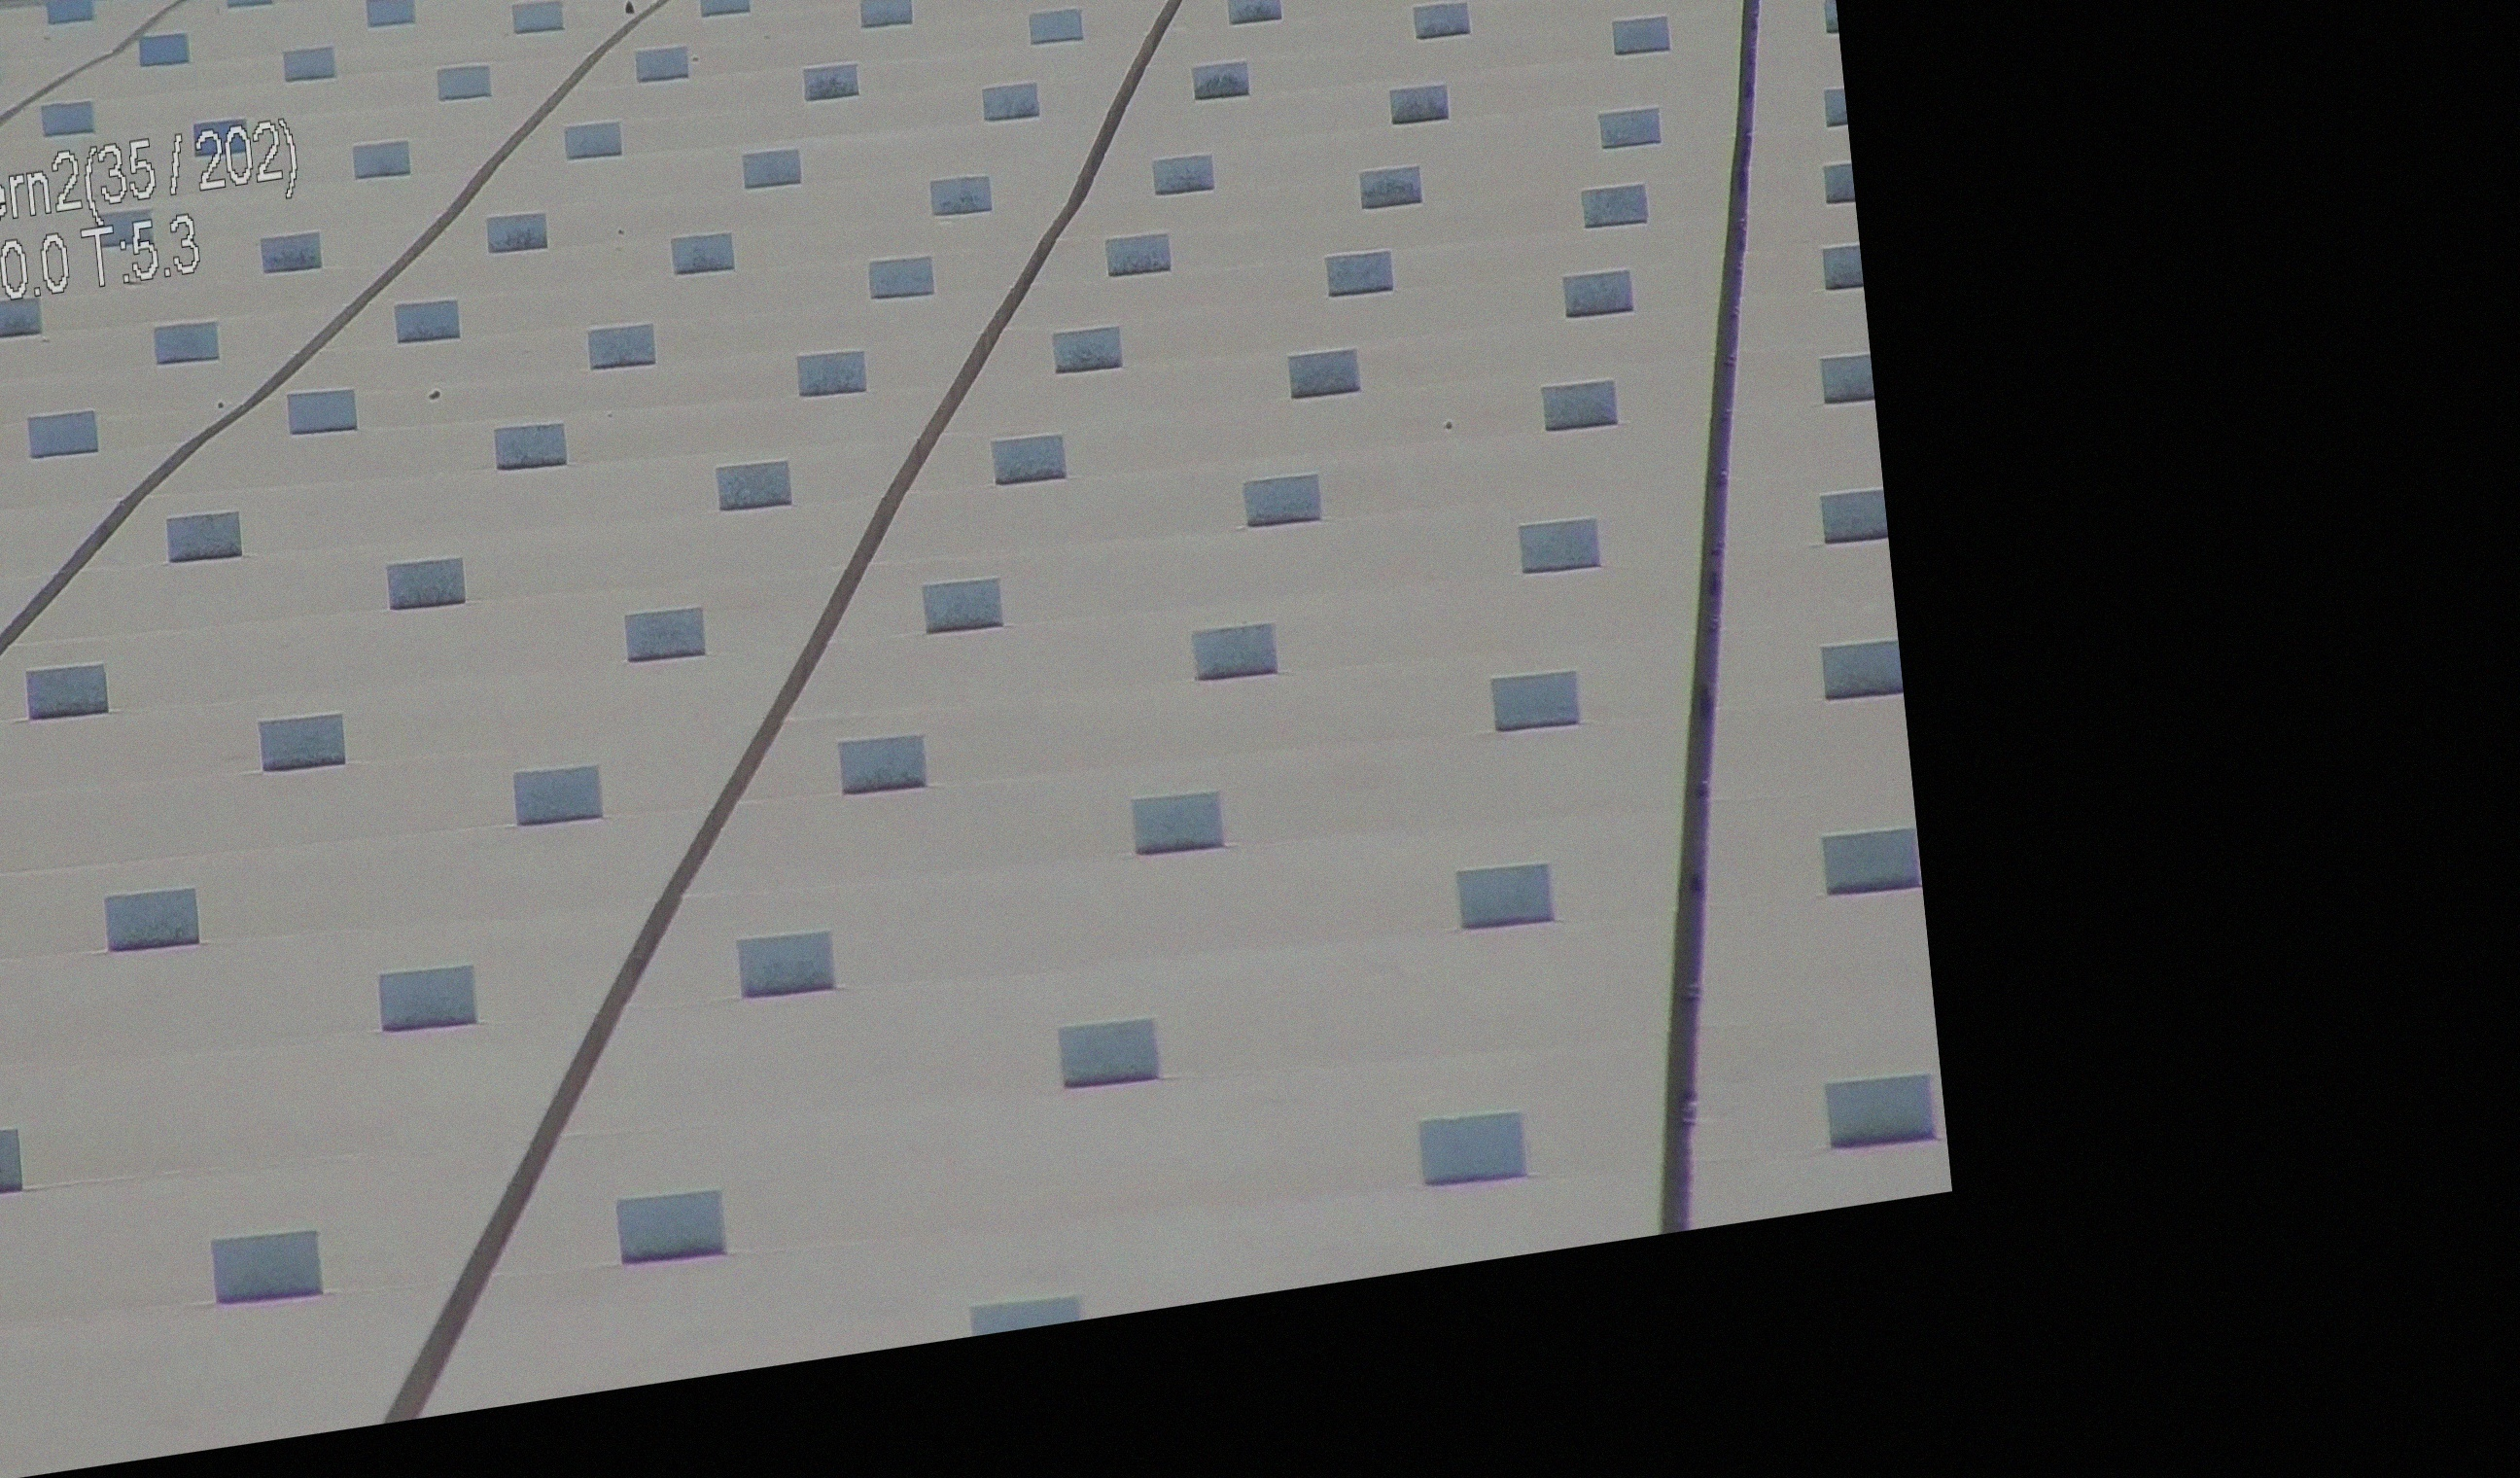Other: (1437, 12, 1539, 167)
